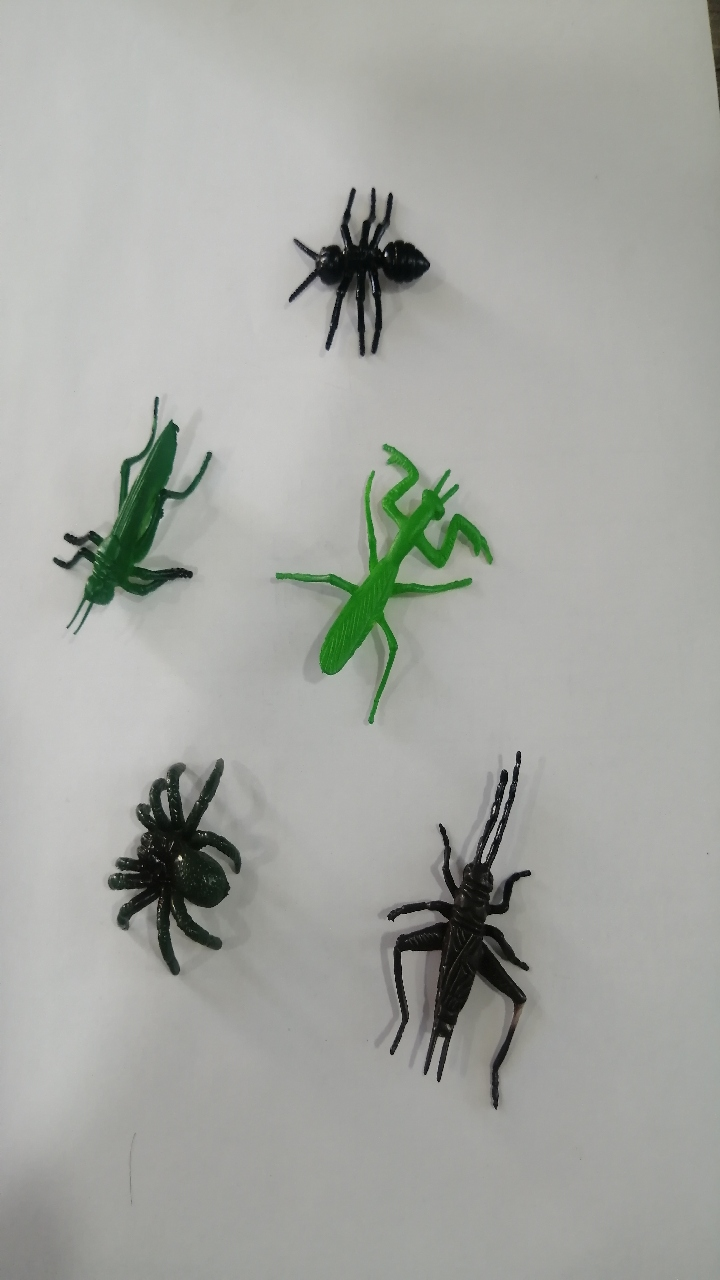intruso: (251, 392, 501, 746), (351, 722, 561, 1112), (80, 731, 286, 1003), (20, 382, 221, 643), (268, 151, 466, 380)
